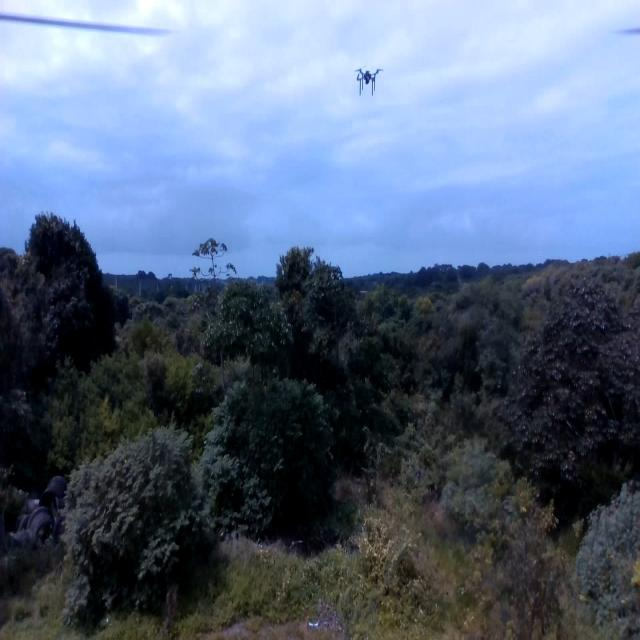-uav-: (353, 56, 385, 110)
